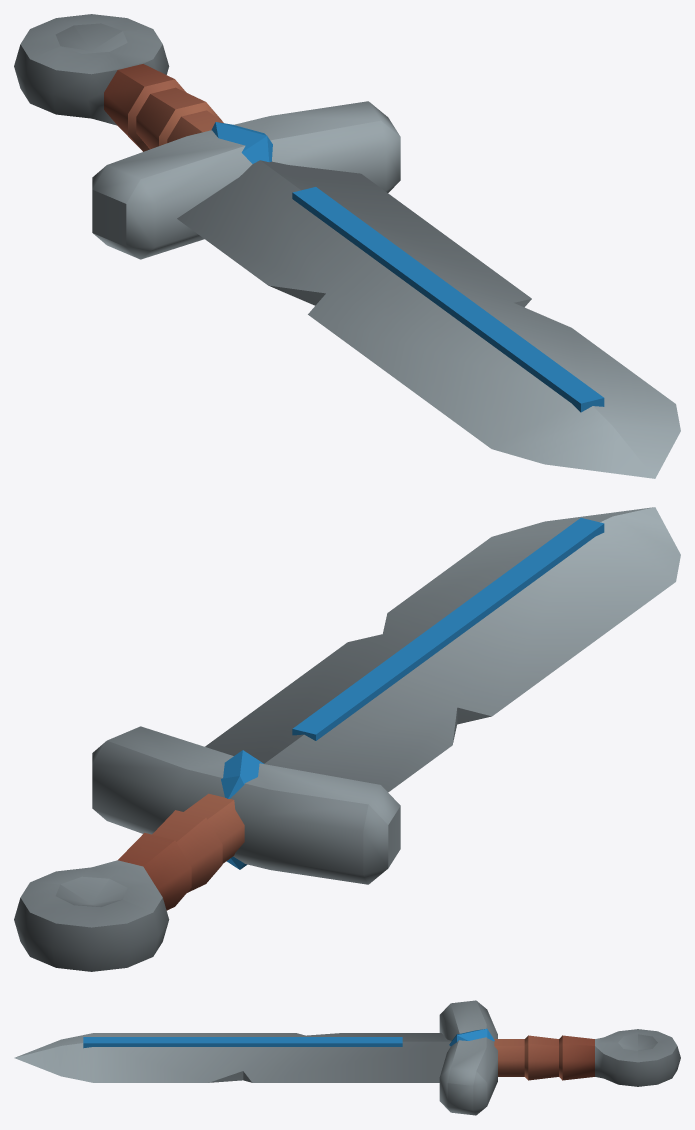
Rendered from knight_sword_t2.glb.
3 views of the same model, one above another, from view 1: azimuth 30°, elevation 25°; view 2: azimuth 150°, elevation 25°; view 3: azimuth 270°, elevation 25° (orthographic). The views are drawn at different scales.
Visible parts, largest first — view 1: knight_sword_t2__handslot_r; view 2: knight_sword_t2__handslot_r; view 3: knight_sword_t2__handslot_r.
Part boxes in pixels (left/top/right/bottom): knight_sword_t2__handslot_r: left=14, top=14, right=680, bottom=478; knight_sword_t2__handslot_r: left=14, top=507, right=680, bottom=971; knight_sword_t2__handslot_r: left=14, top=1000, right=680, bottom=1115.
Bounding box in the file's own units: 0.5034 × 0.1531 × 1.78.
2 materials, 2 textured.
